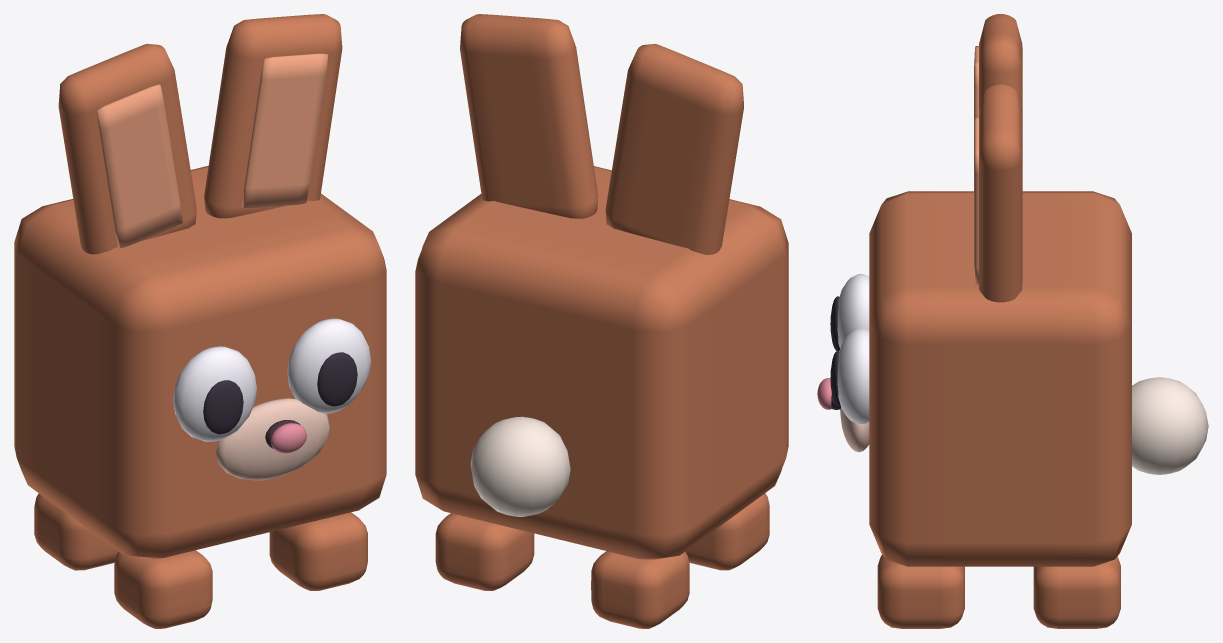
The model's file is pet-rabbit.glb.
The picture shows the model from 3 angles, left to right: view 1: azimuth 30°, elevation 25°; view 2: azimuth 150°, elevation 25°; view 3: azimuth 270°, elevation 25°; orthographic projection. The views are drawn at different scales.
Visible parts, largest first — view 1: body, ear_1, ear_-1, ear_inner_1, ear_inner_-1, foot_L_front, foot_R_front, muzzle, eye_white_-1, eye_white_1, foot_L_back, pupil_1 (+2 smaller); view 2: body, ear_1, ear_-1, tail, foot_L_back, foot_R_back, foot_L_front; view 3: body, ear_1, tail, foot_R_front, foot_R_back, ear_-1, eye_white_1, eye_white_-1, ear_inner_1, muzzle.
Boxes of the visible parts, <box> form: body: <box>14,166,386,559</box>; ear_1: <box>204,14,342,218</box>; ear_-1: <box>58,43,196,254</box>; ear_inner_1: <box>242,53,328,208</box>; ear_inner_-1: <box>96,84,182,248</box>; foot_L_front: <box>114,550,212,628</box>; foot_R_front: <box>269,512,367,590</box>; muzzle: <box>216,398,329,480</box>; eye_white_-1: <box>173,346,256,441</box>; eye_white_1: <box>287,318,370,413</box>; foot_L_back: <box>34,493,118,570</box>; pupil_1: <box>317,352,357,406</box>; body: <box>415,166,788,559</box>; ear_1: <box>460,14,598,218</box>; ear_-1: <box>605,43,743,254</box>; tail: <box>470,416,570,516</box>; foot_L_back: <box>591,551,689,628</box>; foot_R_back: <box>435,513,534,590</box>; foot_L_front: <box>685,493,769,570</box>; body: <box>869,191,1131,566</box>; ear_1: <box>979,83,1022,302</box>; tail: <box>1132,377,1208,474</box>; foot_R_front: <box>877,554,964,628</box>; foot_R_back: <box>1033,556,1120,628</box>; ear_-1: <box>979,14,1022,117</box>; eye_white_1: <box>837,328,869,424</box>; eye_white_-1: <box>837,273,869,348</box>; ear_inner_1: <box>974,115,978,284</box>; muzzle: <box>840,407,869,452</box>.
Bounding box in the file's own units: 1.14 × 2.1 × 1.43.
